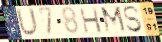7: (37, 5, 54, 38)
8: (61, 6, 82, 37)
H: (78, 7, 104, 35)
M: (99, 5, 129, 35)
S: (122, 5, 144, 34)
U: (14, 7, 40, 38)
